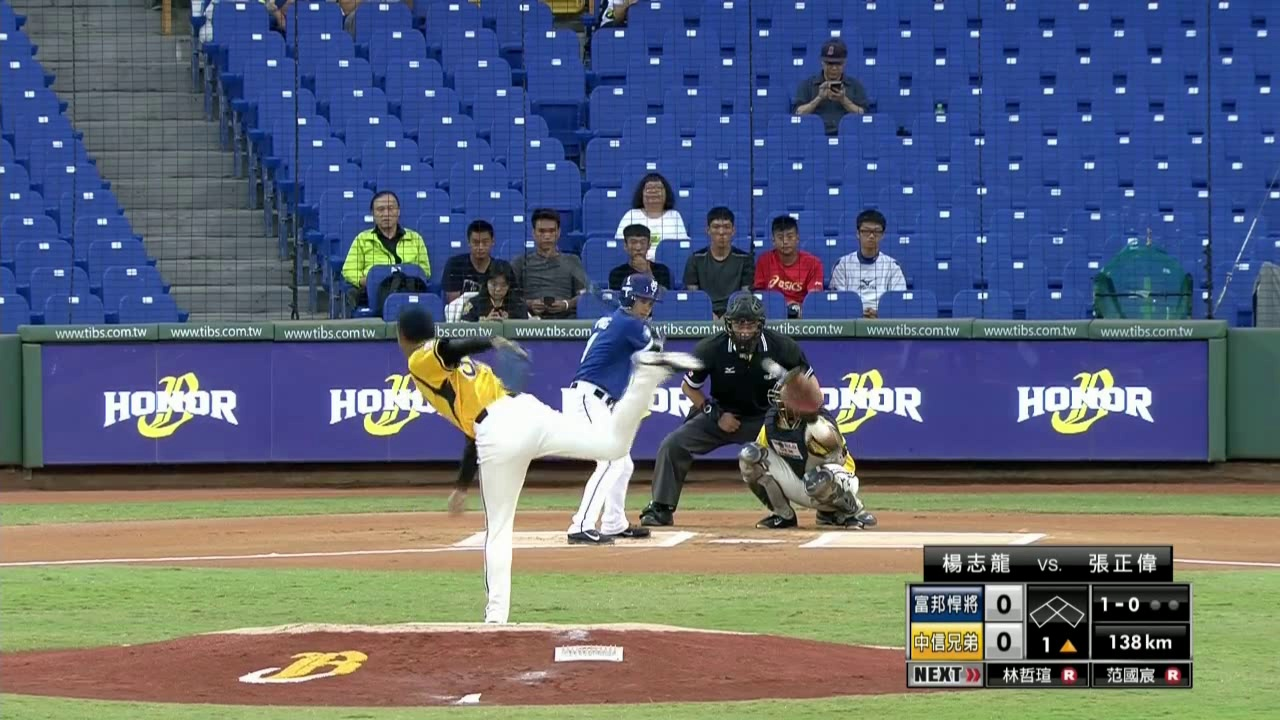ball: (765, 358, 785, 378)
base: (1029, 594, 1087, 630)
bat: (559, 251, 618, 309)
out: (1148, 597, 1181, 612)
score1: (985, 583, 1021, 620)
score2: (985, 622, 1023, 658)
session: (1040, 635, 1078, 655)
speed: (1106, 631, 1174, 652)
strikeball: (1099, 593, 1142, 614)
